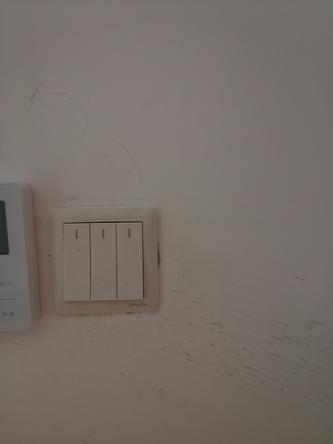switch: (111, 217, 146, 305), (60, 217, 93, 302), (88, 220, 119, 306)
